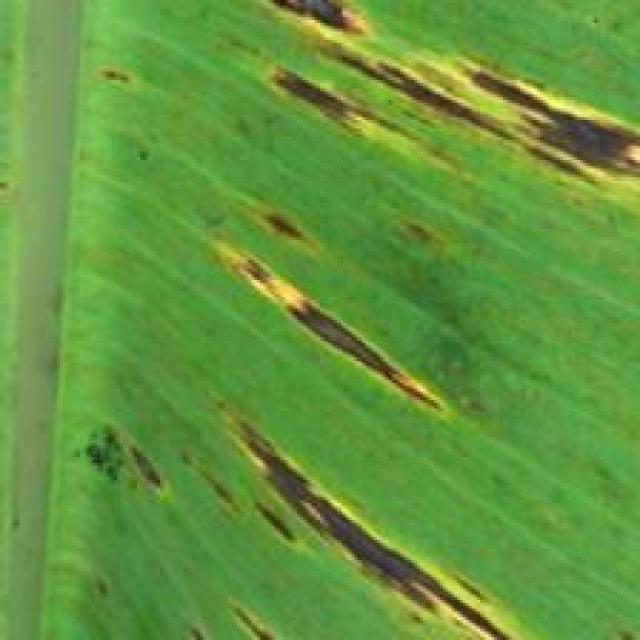Early_leaf_spot: (117, 374, 592, 640), (178, 170, 496, 447), (237, 0, 640, 183), (92, 56, 145, 114)
